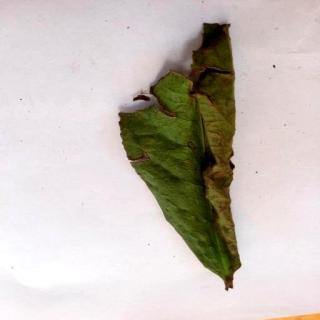Algal Leaf: (119, 23, 244, 291)
